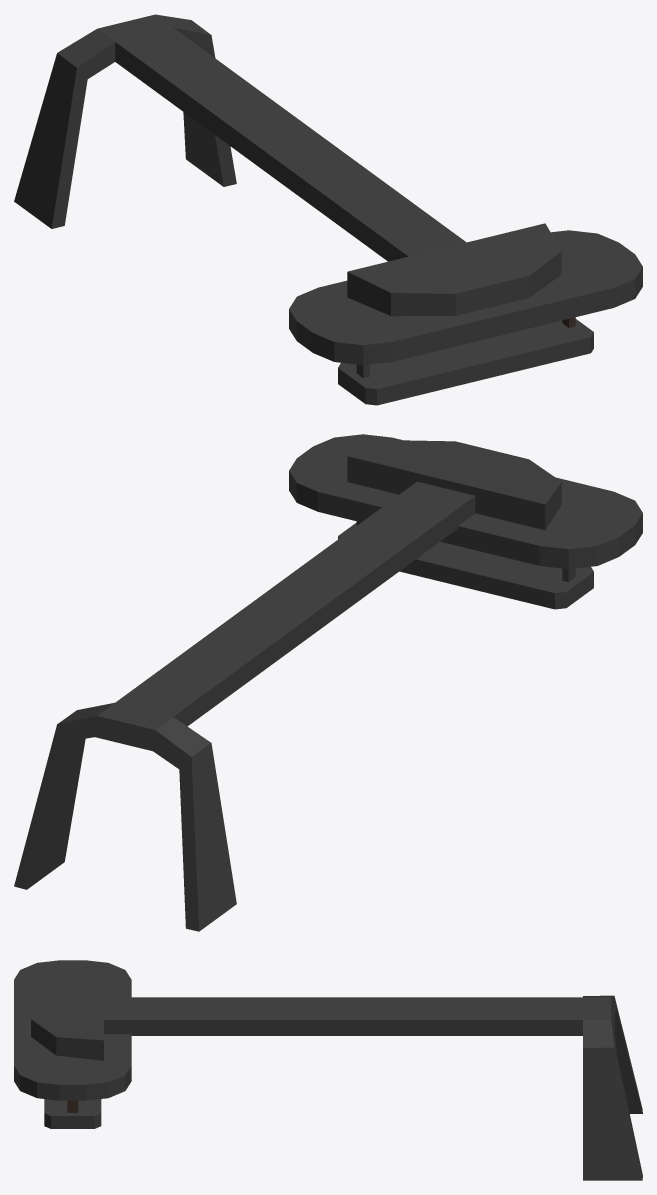
File: Pec_Machine_Ac_1.fbx
3 views of the same model, one above another, from view 1: azimuth 30°, elevation 25°; view 2: azimuth 150°, elevation 25°; view 3: azimuth 270°, elevation 25° (orthographic). The views are drawn at different scales.
Parts seen in each view (by area): view 1: Pec_Machine_Ac_1; view 2: Pec_Machine_Ac_1; view 3: Pec_Machine_Ac_1.
Boxes of the visible parts, <box> form: Pec_Machine_Ac_1: <box>14,14,642,405</box>; Pec_Machine_Ac_1: <box>14,434,642,931</box>; Pec_Machine_Ac_1: <box>14,960,642,1180</box>.
Bounding box in the file's own units: 35.54 × 18.98 × 75.79.
